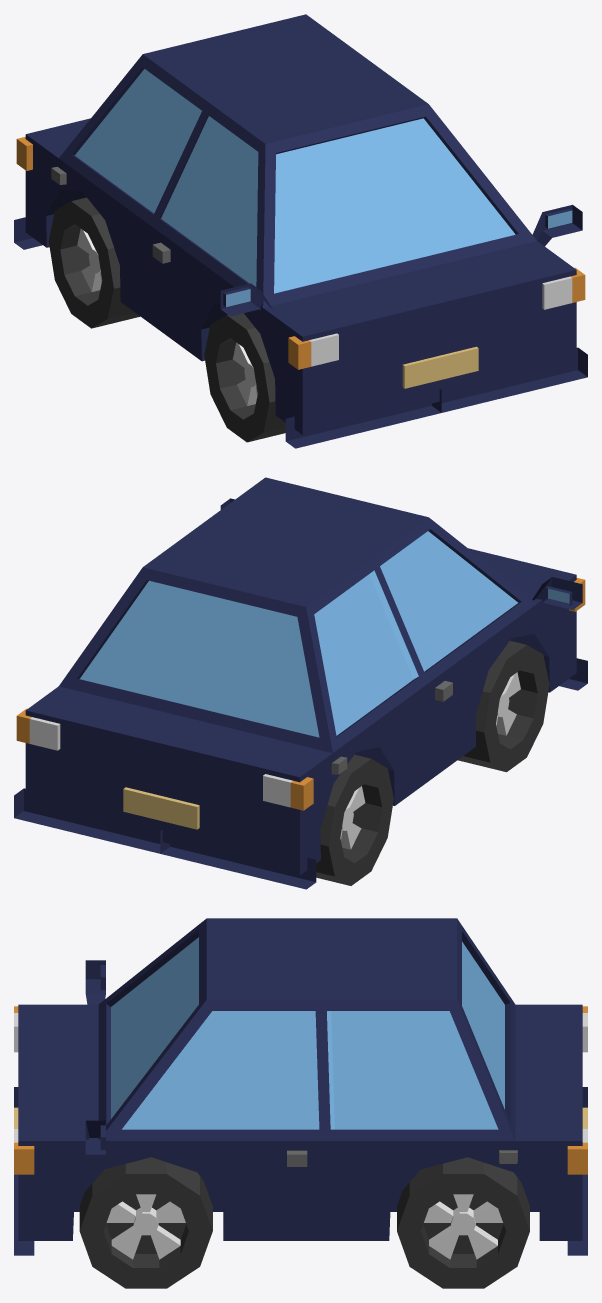
File: Crossover.glb
3 views of the same model, one above another, from view 1: azimuth 30°, elevation 25°; view 2: azimuth 150°, elevation 25°; view 3: azimuth 270°, elevation 25° (orthographic).
Visible parts, largest first — view 1: Cube.010; view 2: Cube.010; view 3: Cube.010.
Part boxes in pixels (box(x1,y1,x2,y2)): Cube.010: box(14, 14, 587, 448); Cube.010: box(14, 477, 587, 889); Cube.010: box(14, 918, 587, 1288).
Bounding box in the file's own units: 2.57 × 1.78 × 3.56.
